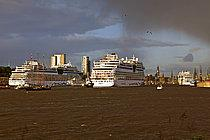Ship: (7, 55, 88, 94), (86, 50, 152, 93)
